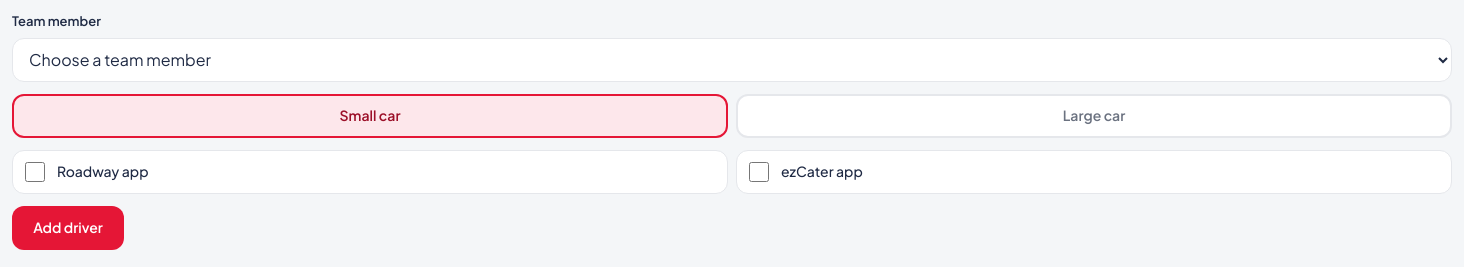
Test: AddDriverForm › asks for a person before saving
Click the button "Add driver": x=68, y=228 [12,206,124,250]
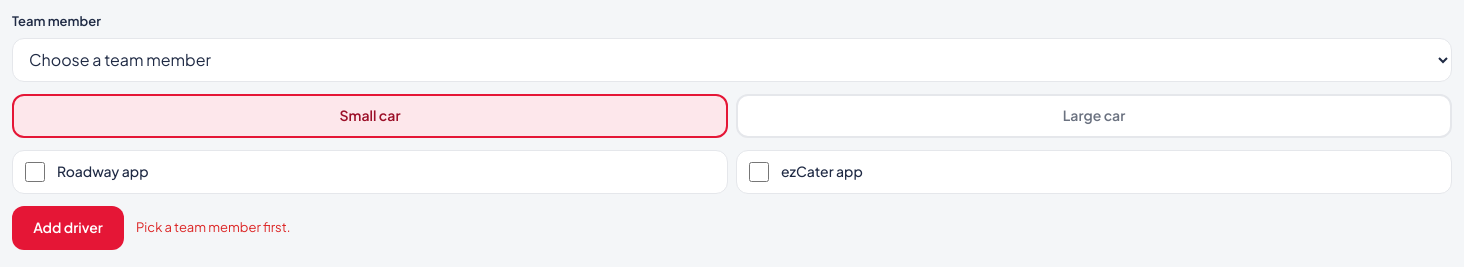
Expected: the message reads "Pick a team member first.", [136,219,290,235]
